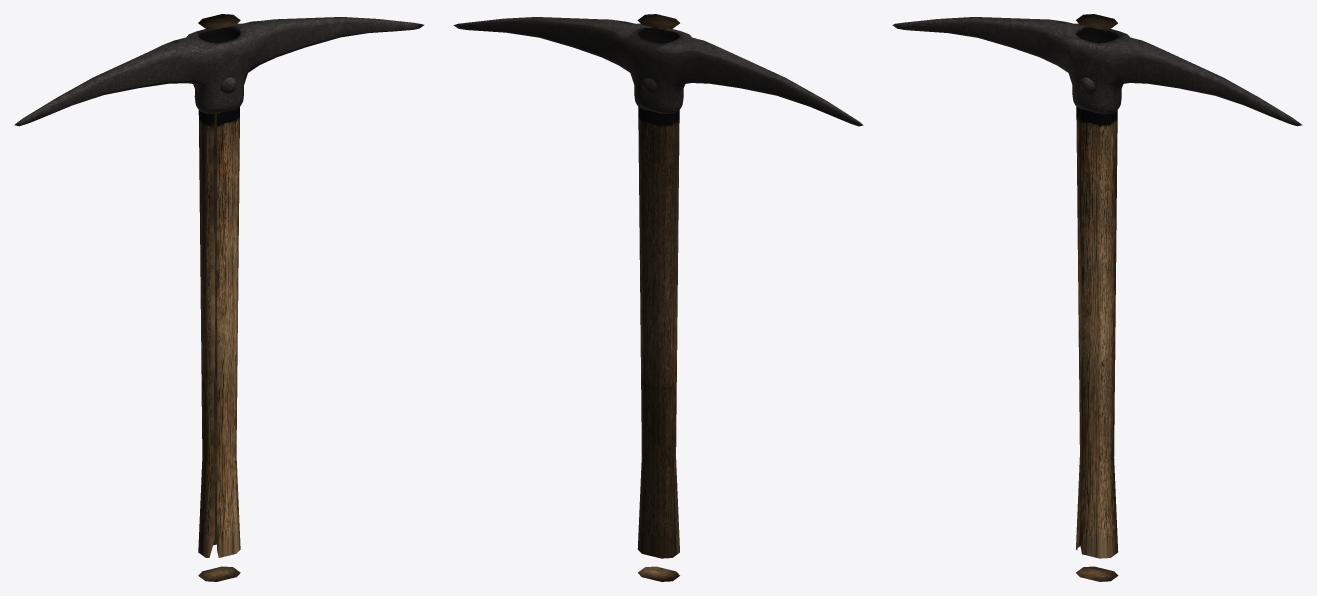
The model's file is pickaxe.dae.
The picture shows the model from 3 angles, left to right: view 1: azimuth 30°, elevation 25°; view 2: azimuth 150°, elevation 25°; view 3: azimuth 330°, elevation 25°; orthographic projection.
Visible parts, largest first — view 1: Handle, Pickaxe; view 2: Handle, Pickaxe; view 3: Handle, Pickaxe.
Boxes of the visible parts, <box> form: Handle: <box>198,14,240,581</box>; Pickaxe: <box>14,17,423,126</box>; Handle: <box>637,14,679,581</box>; Pickaxe: <box>453,17,863,126</box>; Handle: <box>1076,14,1118,581</box>; Pickaxe: <box>892,17,1302,126</box>.
Size of the model in its own units: 3.8 by 0.4007 by 4.89.
2 materials, 2 textured.
